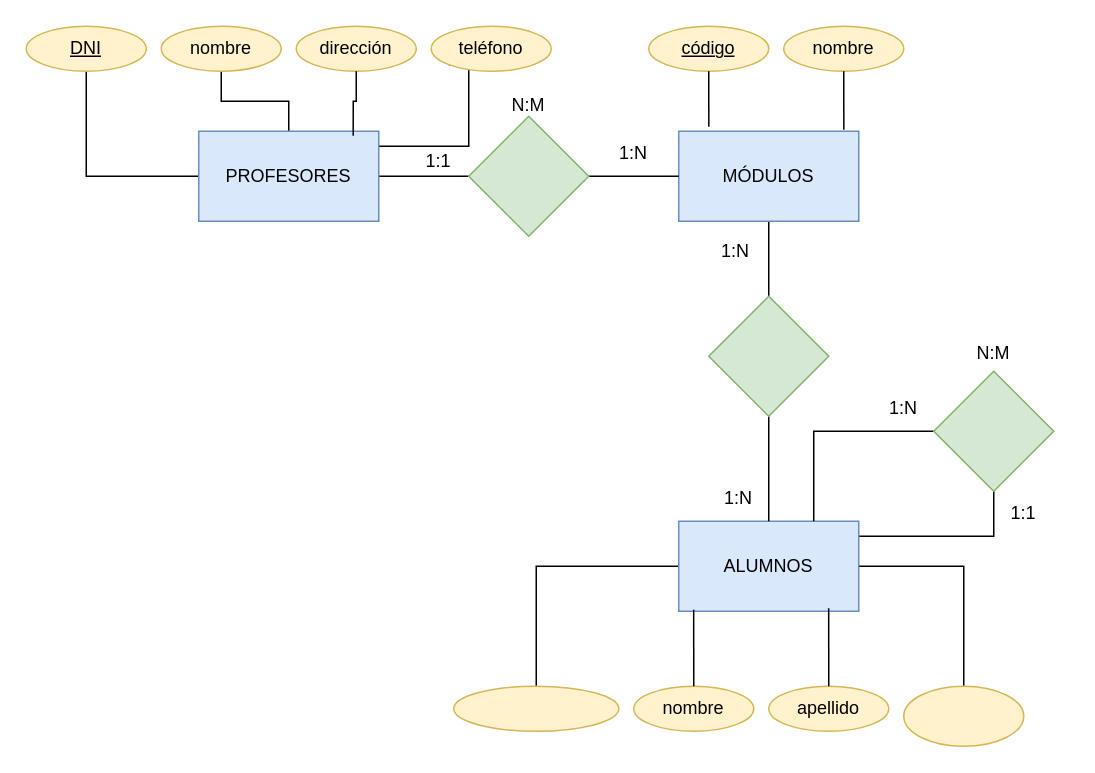
The diagram is 1095 pixels wide and 773 high, and some of its shapes have lost their labels. The centre of each missing label's shape, as x and y in pixels:
"es delegado" belongs at point (993, 430).
"fecha nacimiento" belongs at point (963, 715).
"imparten" belongs at point (528, 175).
"matriculados" belongs at point (768, 355).
"nº expediente" belongs at point (535, 708).
